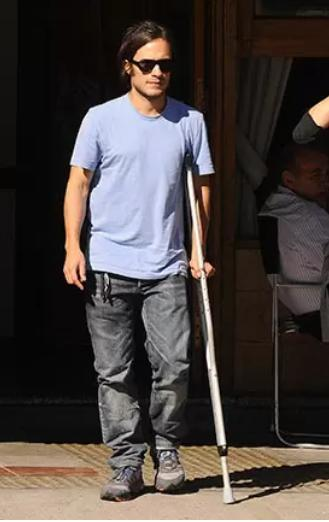crutches: (59, 18, 240, 510)
